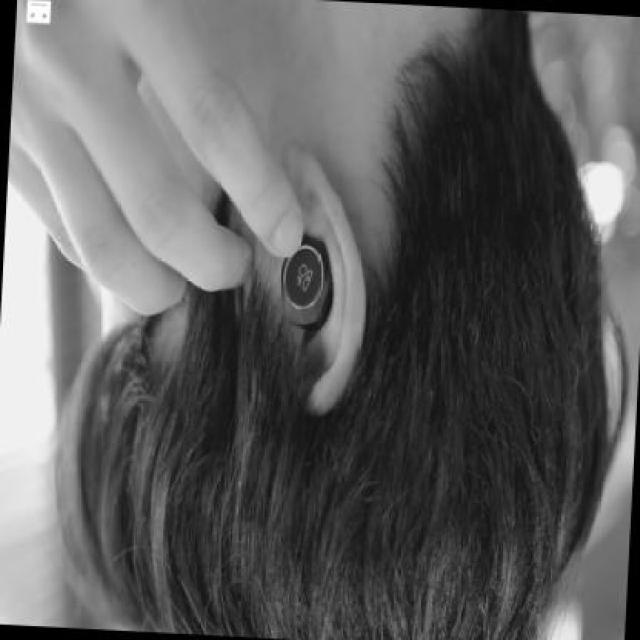earphone: (262, 215, 357, 349)
